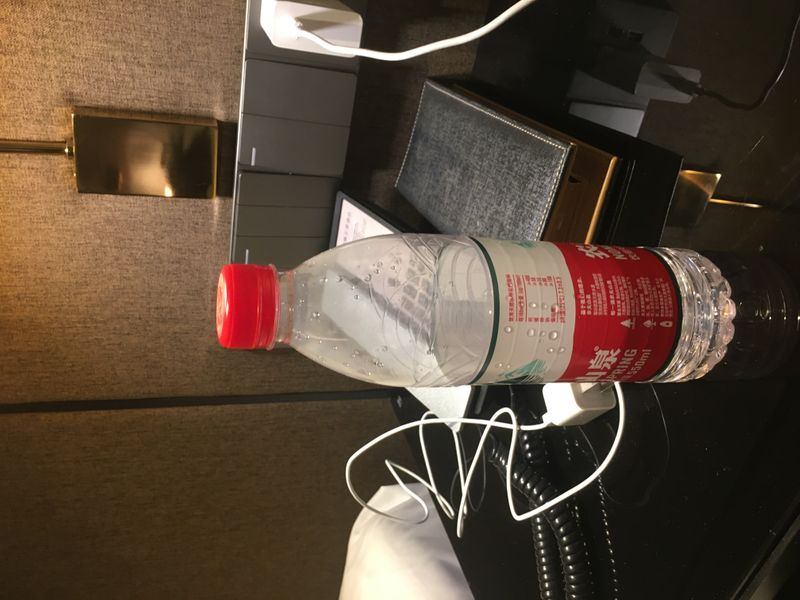5eca67a90202601e8cb8d104: (216, 228, 736, 389)
